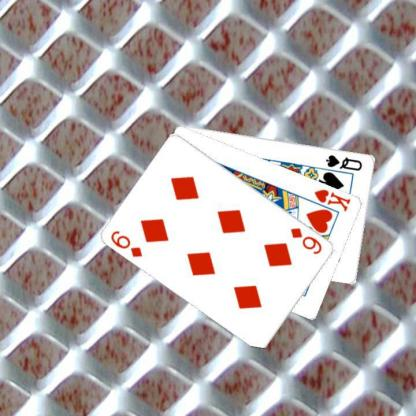6D: (288, 225, 324, 256), (108, 228, 144, 258)
KH: (312, 186, 352, 213)
QS: (324, 152, 364, 172)
